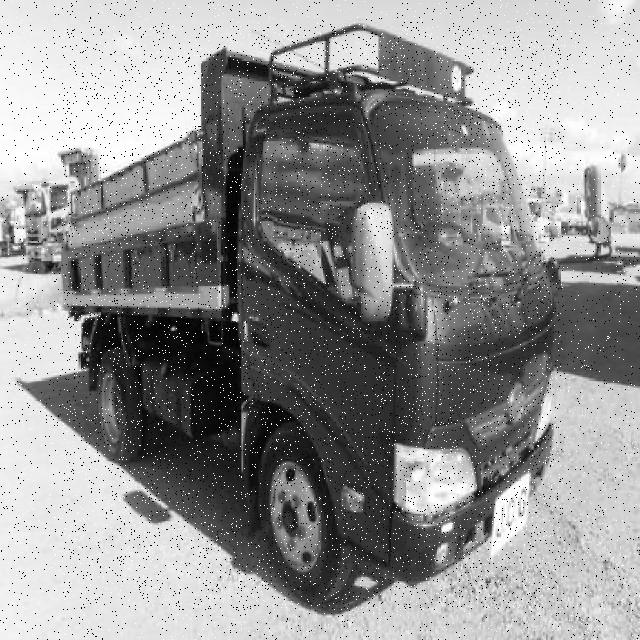Box Truck: (62, 26, 561, 610)
